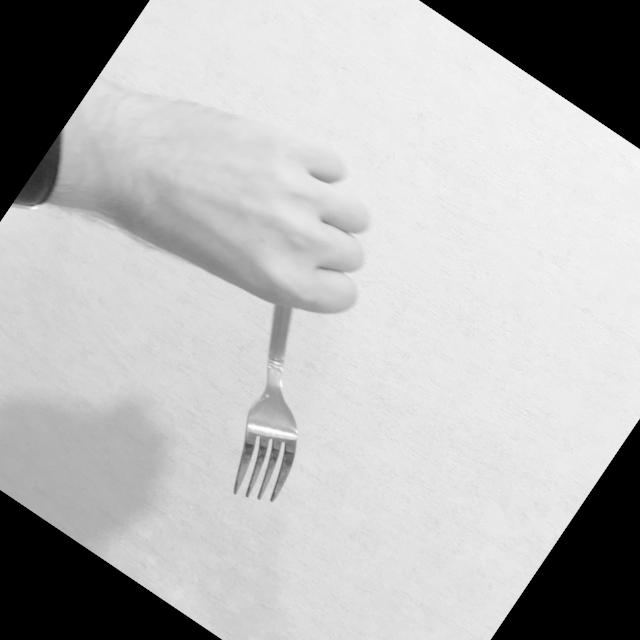fork: (172, 276, 388, 518)
